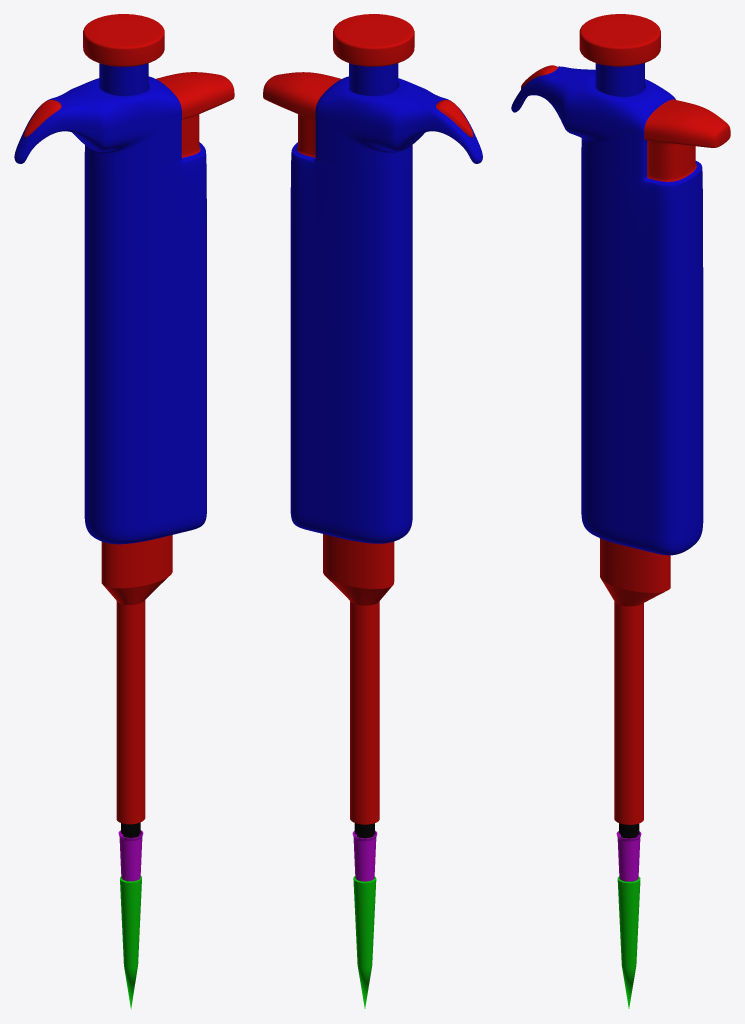
The model's file is Mechanical_Pipette_Full.fbx.
3 views of the same model, side by side, from view 1: azimuth 30°, elevation 25°; view 2: azimuth 150°, elevation 25°; view 3: azimuth 330°, elevation 25° (orthographic).
Parts seen in each view (by area): view 1: Cube (×4); view 2: Cube (×4); view 3: Cube (×4).
Boxes of the visible parts, box(x1,y1,x2,y2) form: Cube (×4): box(14, 14, 234, 1009); Cube (×4): box(263, 14, 482, 1008); Cube (×4): box(511, 14, 730, 1008).
Size of the model in its own units: 53.68 by 237 by 17.88.
